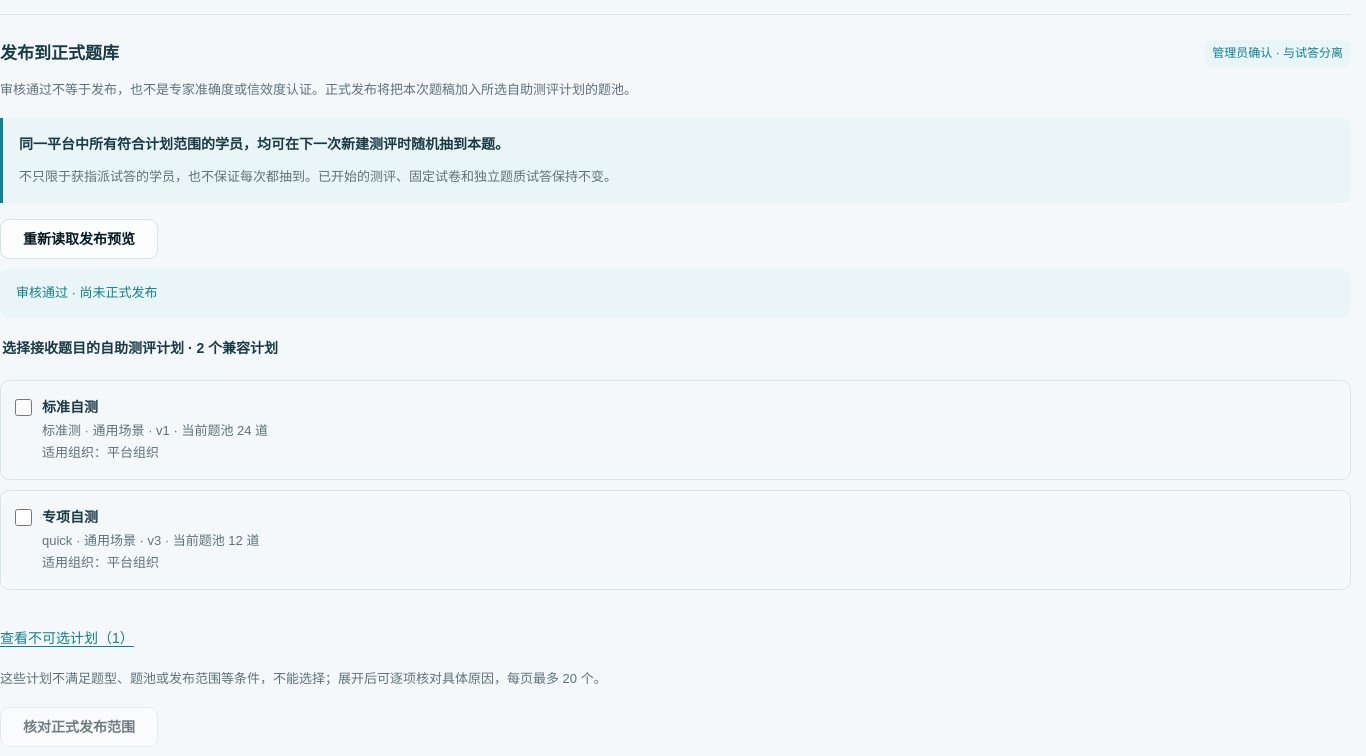
Test: formal review publication › clears sensitive preview and informs parent on HTTP 401
Click the checkbox with test id "publication-target-plan-1" at (24, 408), box [15,399,32,416]
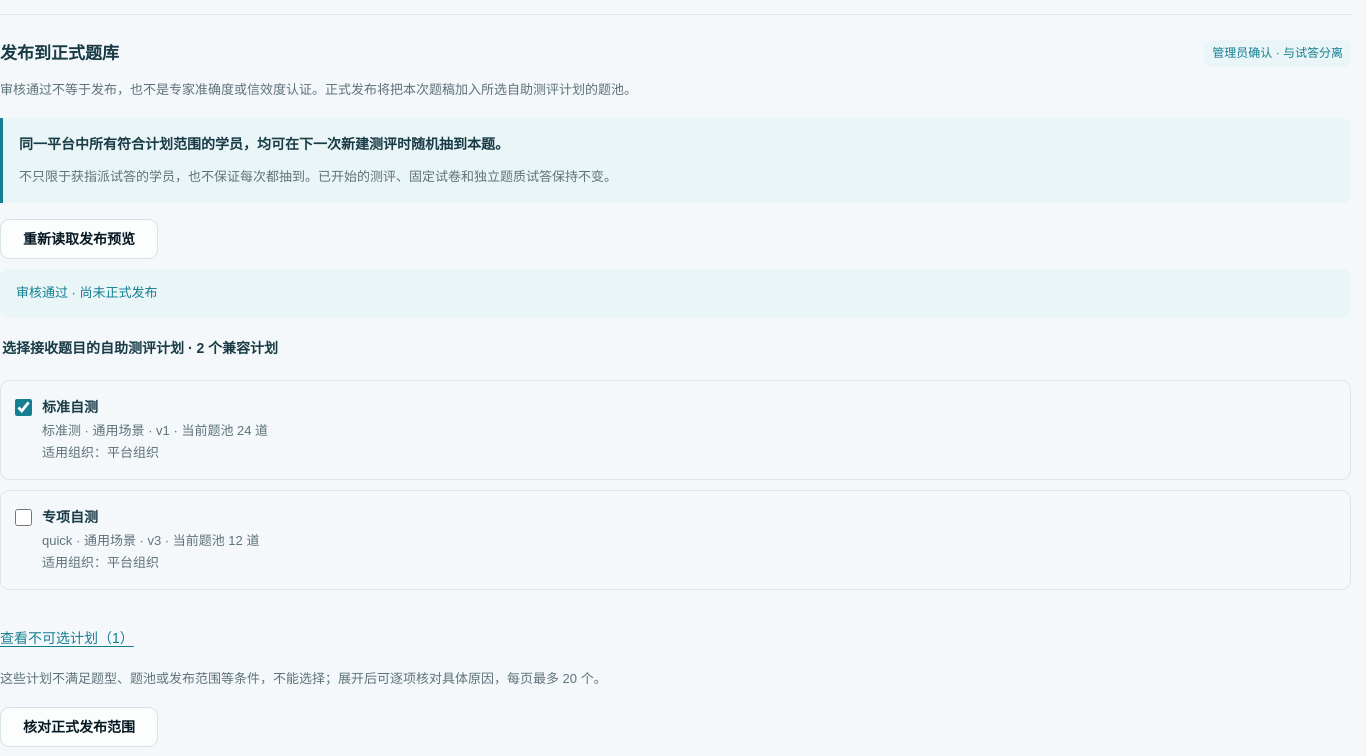
Click the button with test id "publication-prepare" at (79, 727), box [0,707,158,747]
(page scrolled)
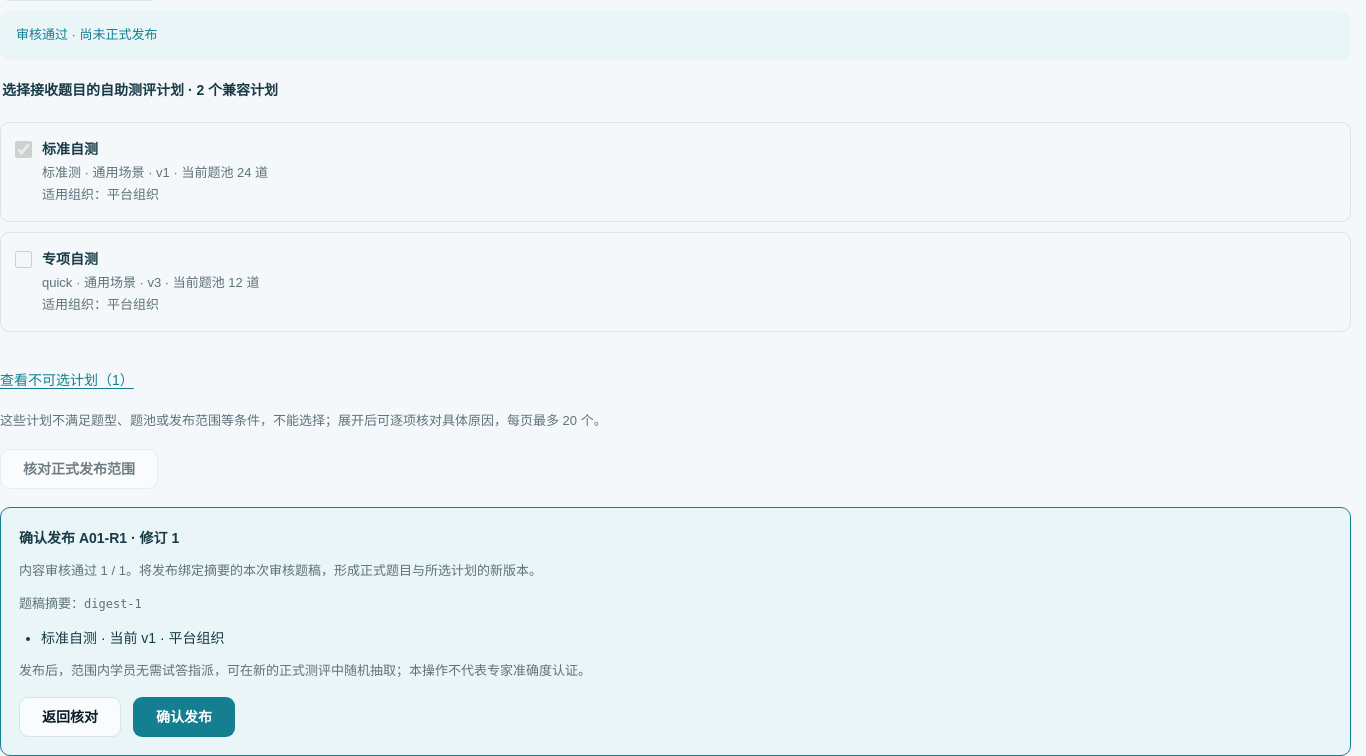
Click the button with test id "publication-confirm" showing "确认发布" at (184, 717), box [133,697,235,737]
(page scrolled)
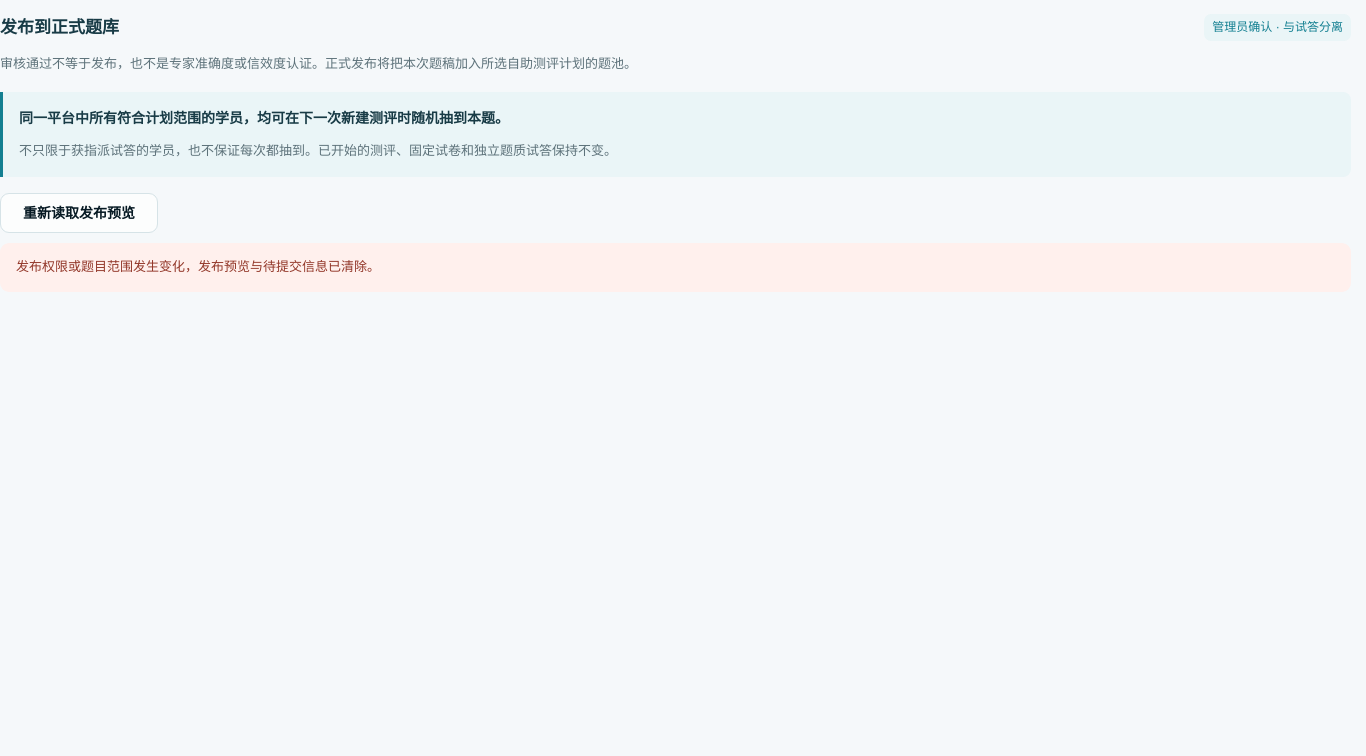
Expected: the text "标准自测" is gone
